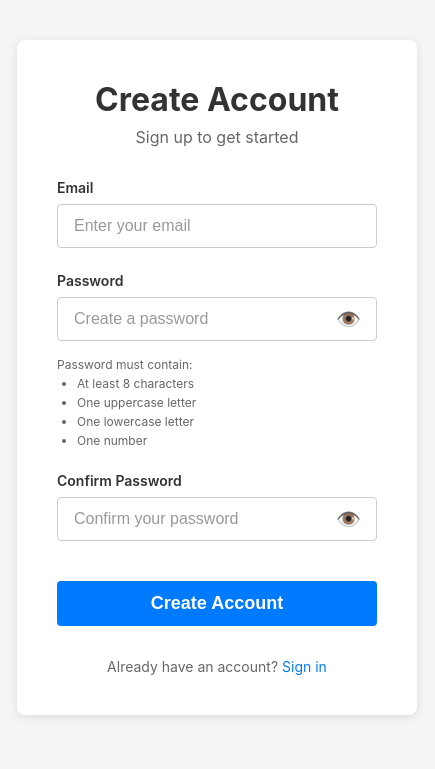
Scenario: Register Component › validates required fields on submit
Click the button "Create Account": (217, 603) x1=57 y1=580 x2=377 y2=626
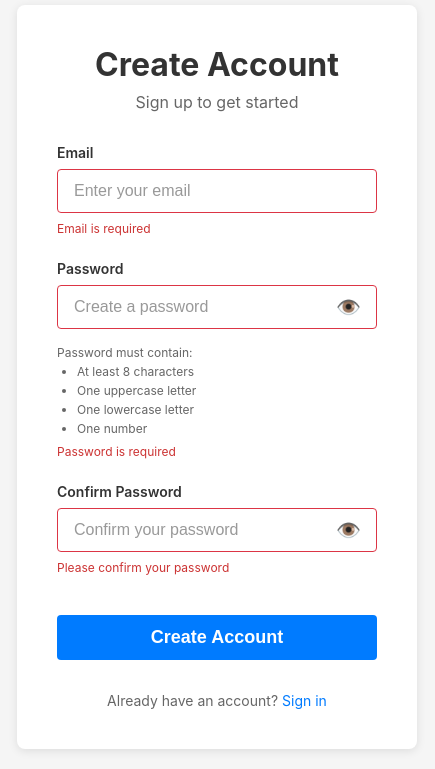
Expected: the text "Email is required" is shown, x1=57 y1=221 x2=151 y2=236
Expected: the text "Password is required" is shown, x1=57 y1=444 x2=176 y2=459
Expected: the text "Please confirm your password" is shown, x1=57 y1=560 x2=229 y2=575
